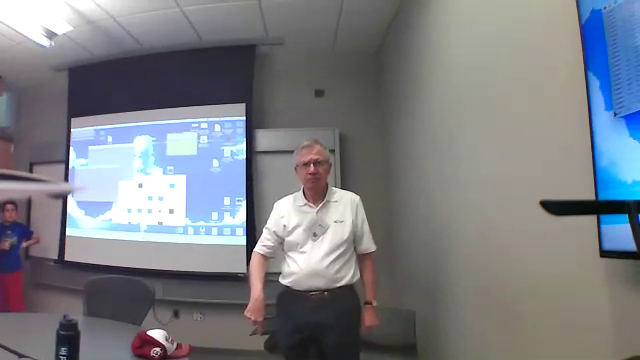down: (238, 292, 271, 341)
